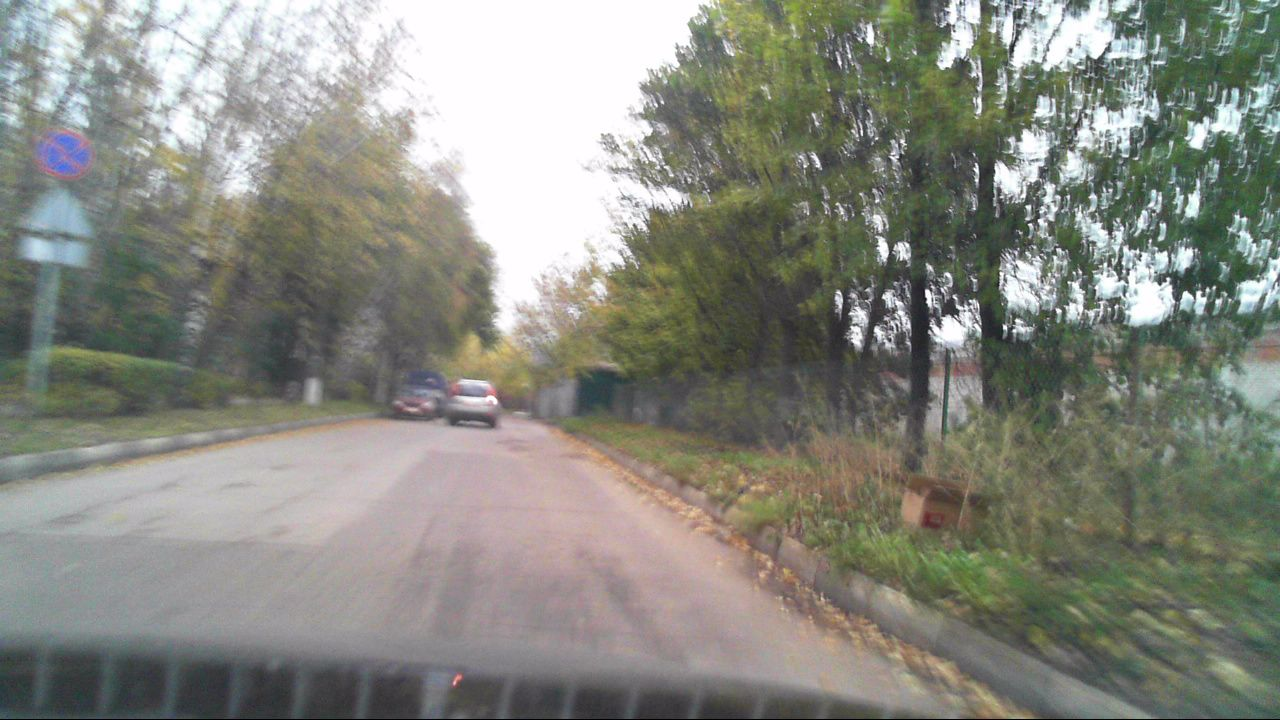No Parking: (39, 130, 91, 182)
